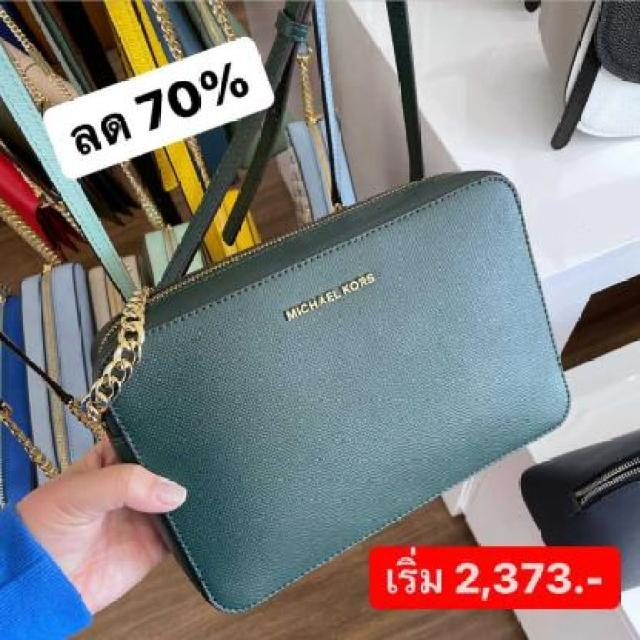Bag: (58, 147, 604, 607)
